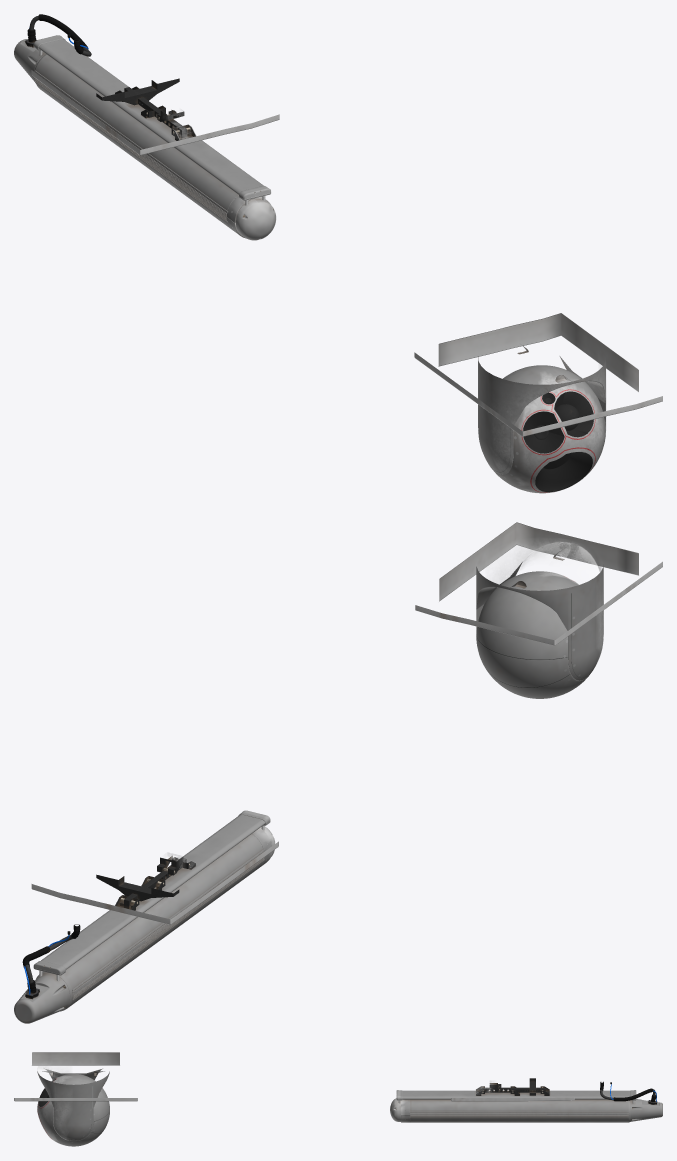
The model's file is SMP_Part.gltf.
The picture shows the model from 3 angles, top to bottom: view 1: azimuth 30°, elevation 25°; view 2: azimuth 150°, elevation 25°; view 3: azimuth 270°, elevation 25°; orthographic projection. The views are drawn at different scales.
Parts seen in each view (by area): view 1: RADARCAM_Cube, RADARCAM_Sphere.001, RADARCAM_Cube.080, RADARCAM_Sphere.003, RADARCAM_Sphere.005, RADARCAM_Sphere.006, RADARCAM_Cube.001, RADARCAM_Cube.085; view 2: RADARCAM_Cube, RADARCAM_Sphere.001, RADARCAM_Cube.080, RADARCAM_Sphere.003, RADARCAM_Sphere.006, RADARCAM_Cube.085; view 3: RADARCAM_Cube, RADARCAM_Sphere.003, RADARCAM_Sphere.001, RADARCAM_Cube.080, RADARCAM_Sphere.006, RADARCAM_Cube.085, RADARCAM_Cube.001, RADARCAM_Sphere.005.
Part boxes in pixels (x1=…): RADARCAM_Cube: x1=14, y1=14, x2=275, y2=240; RADARCAM_Sphere.001: x1=490, y1=365, x2=605, y2=493; RADARCAM_Cube.080: x1=414, y1=313, x2=662, y2=436; RADARCAM_Sphere.003: x1=478, y1=344, x2=605, y2=474; RADARCAM_Sphere.005: x1=516, y1=372, x2=604, y2=493; RADARCAM_Sphere.006: x1=489, y1=370, x2=606, y2=473; RADARCAM_Cube.001: x1=163, y1=110, x2=276, y2=240; RADARCAM_Cube.085: x1=31, y1=70, x2=279, y2=155; RADARCAM_Cube: x1=14, y1=810, x2=274, y2=1023; RADARCAM_Sphere.001: x1=476, y1=571, x2=589, y2=698; RADARCAM_Cube.080: x1=415, y1=522, x2=662, y2=645; RADARCAM_Sphere.003: x1=476, y1=550, x2=603, y2=680; RADARCAM_Sphere.006: x1=489, y1=539, x2=603, y2=662; RADARCAM_Cube.085: x1=31, y1=841, x2=278, y2=924; RADARCAM_Cube: x1=390, y1=1078, x2=662, y2=1122; RADARCAM_Sphere.003: x1=37, y1=1068, x2=109, y2=1140; RADARCAM_Sphere.001: x1=37, y1=1073, x2=109, y2=1146; RADARCAM_Cube.080: x1=14, y1=1052, x2=137, y2=1101; RADARCAM_Sphere.006: x1=37, y1=1063, x2=70, y2=1139; RADARCAM_Cube.085: x1=451, y1=1097, x2=574, y2=1101; RADARCAM_Cube.001: x1=390, y1=1080, x2=494, y2=1122; RADARCAM_Sphere.005: x1=37, y1=1076, x2=70, y2=1143.
Size of the model in its own units: 0.5022 by 0.443 by 3.51.
